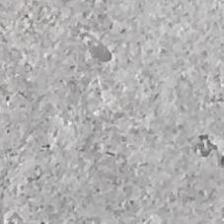Non_Crack: (41, 19, 216, 177)
